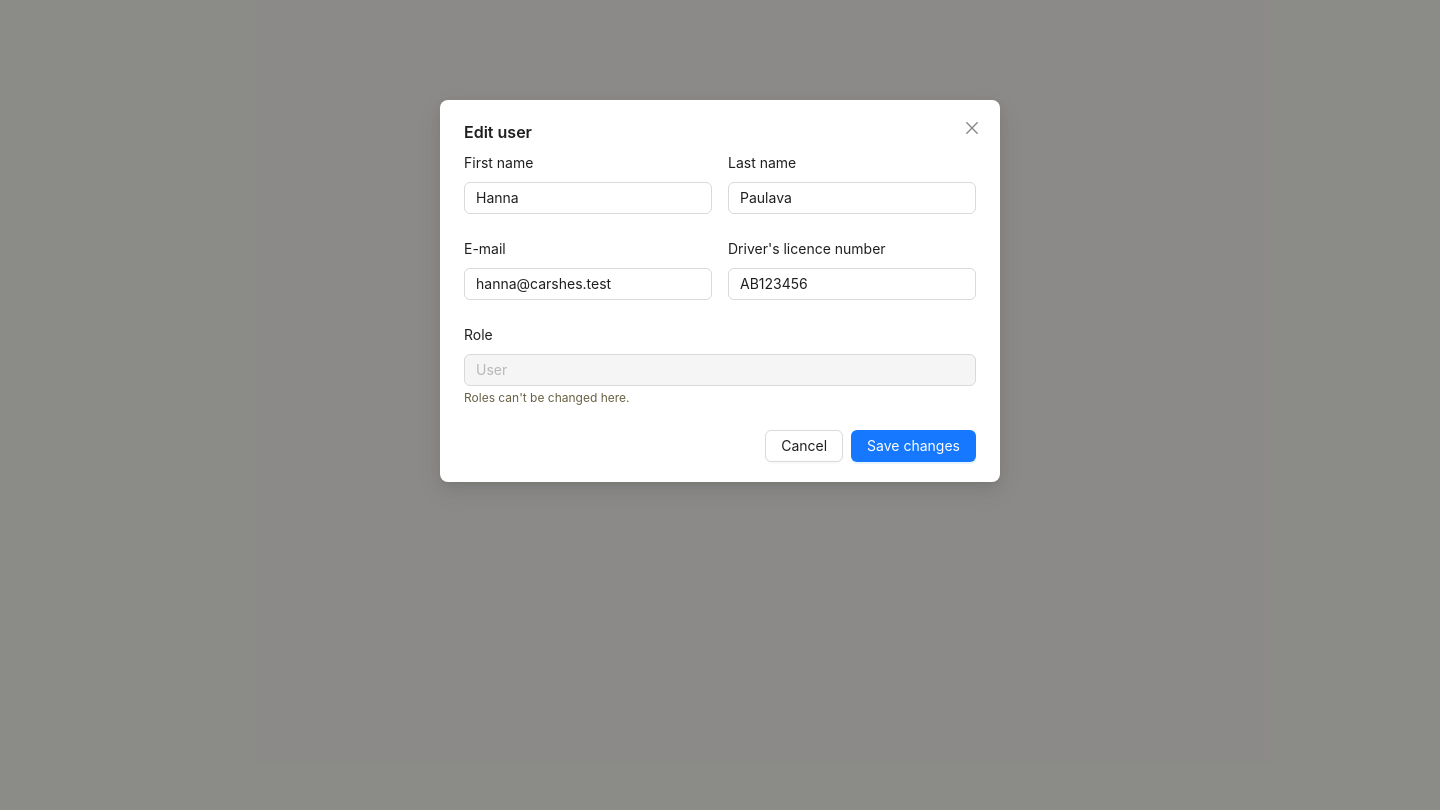
it: admin users section › UserFormModal › puts a duplicate e-mail error on the e-mail field
Replace the text in the field labelled "E-mail" with "taken@carshes.test" at (588, 284), box left=464, top=268, right=712, bottom=300
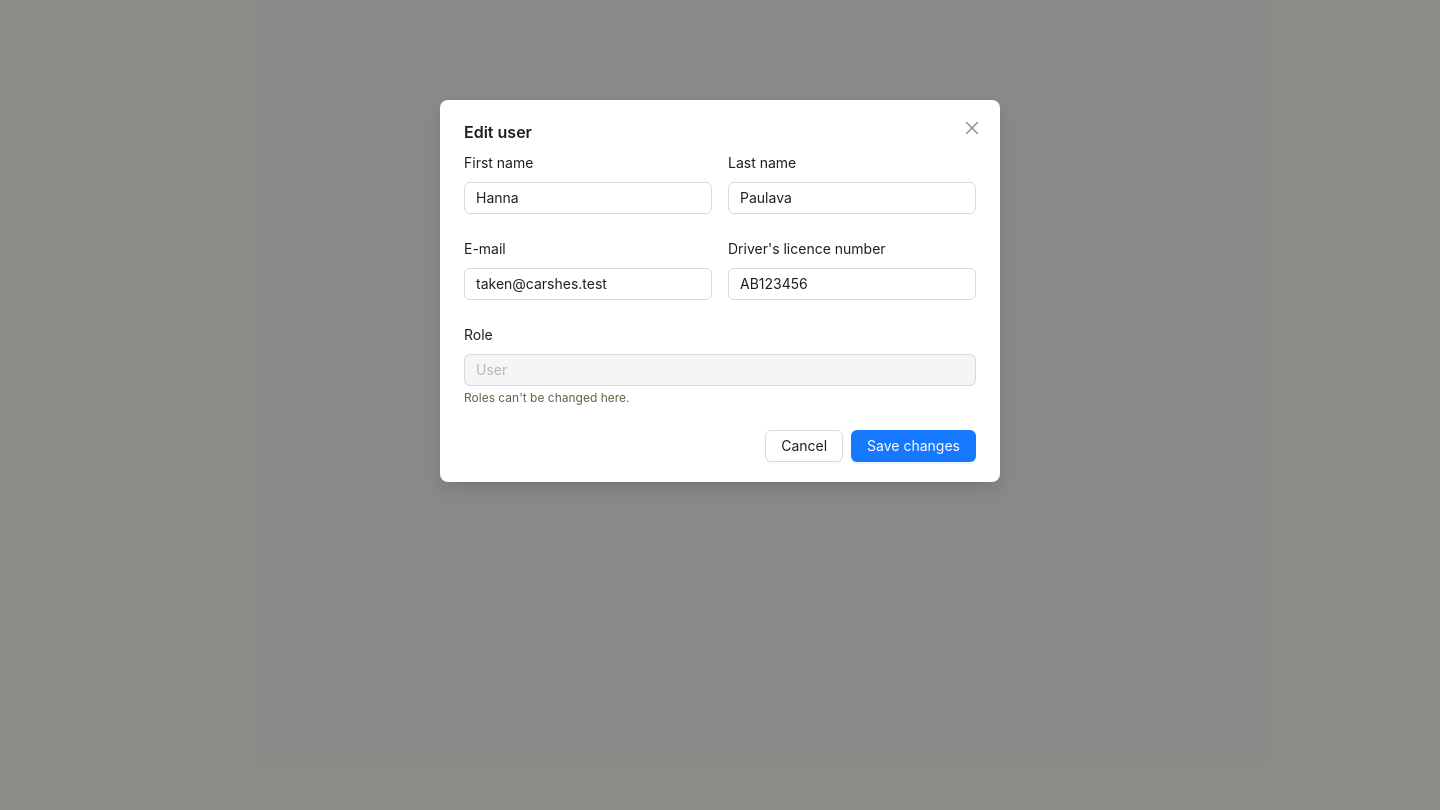
Click the button "Save changes" at (914, 446), box left=851, top=430, right=976, bottom=462
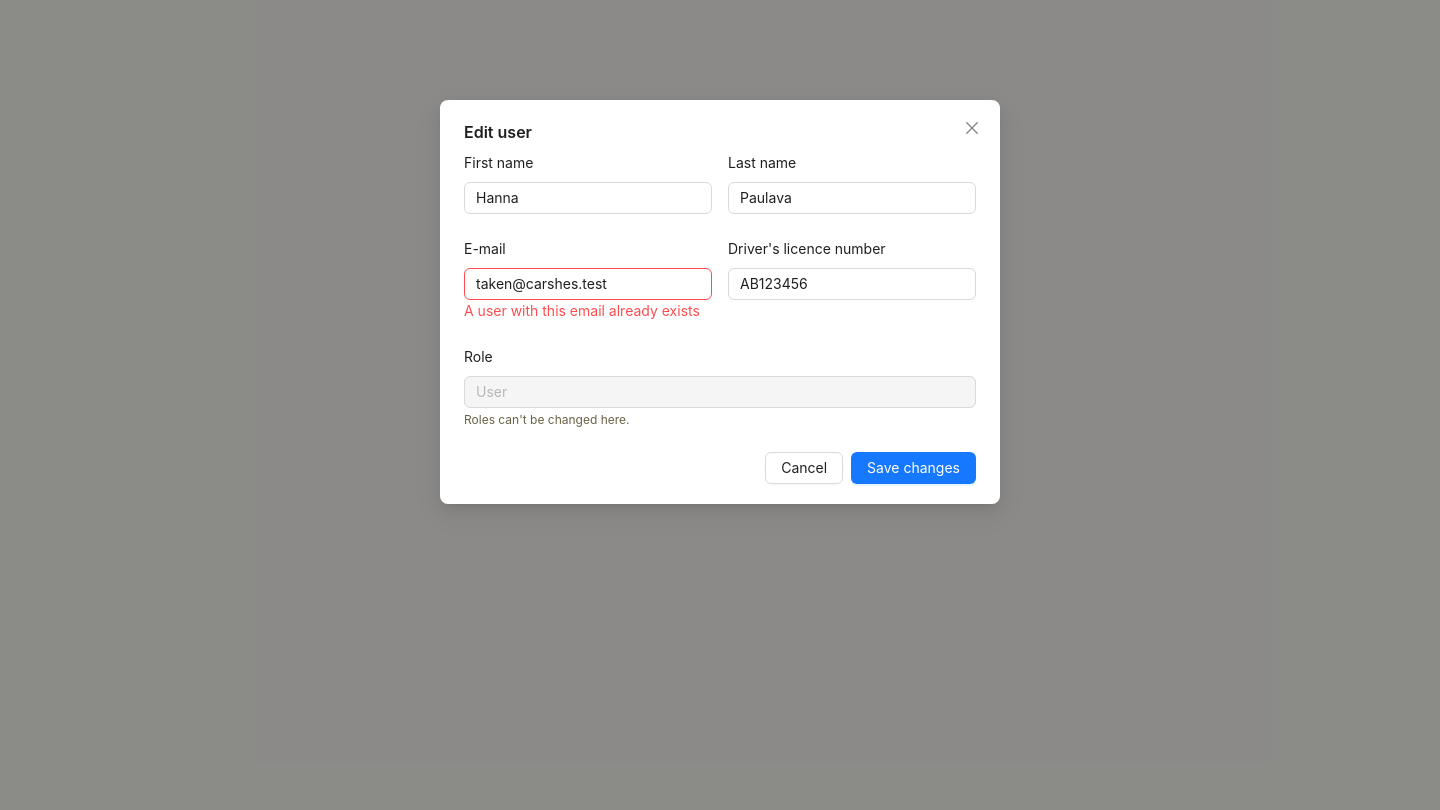
Now the element showing "E-mail A user with this email already exists" is shown, box left=464, top=238, right=712, bottom=322
